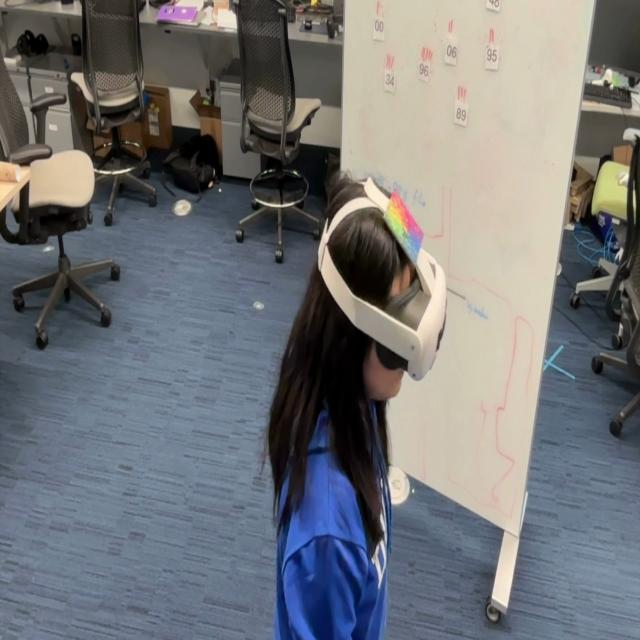Headset: (320, 198, 450, 388)
Marker: (388, 186, 424, 276)
